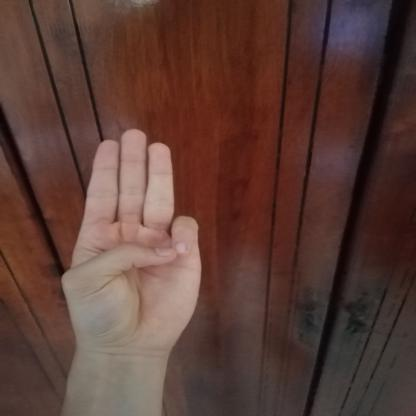THA: (42, 115, 220, 360)
